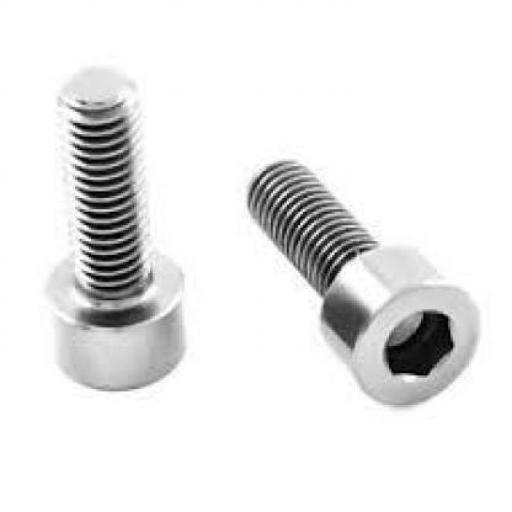bolt: (246, 158, 483, 408), (44, 66, 187, 392)
